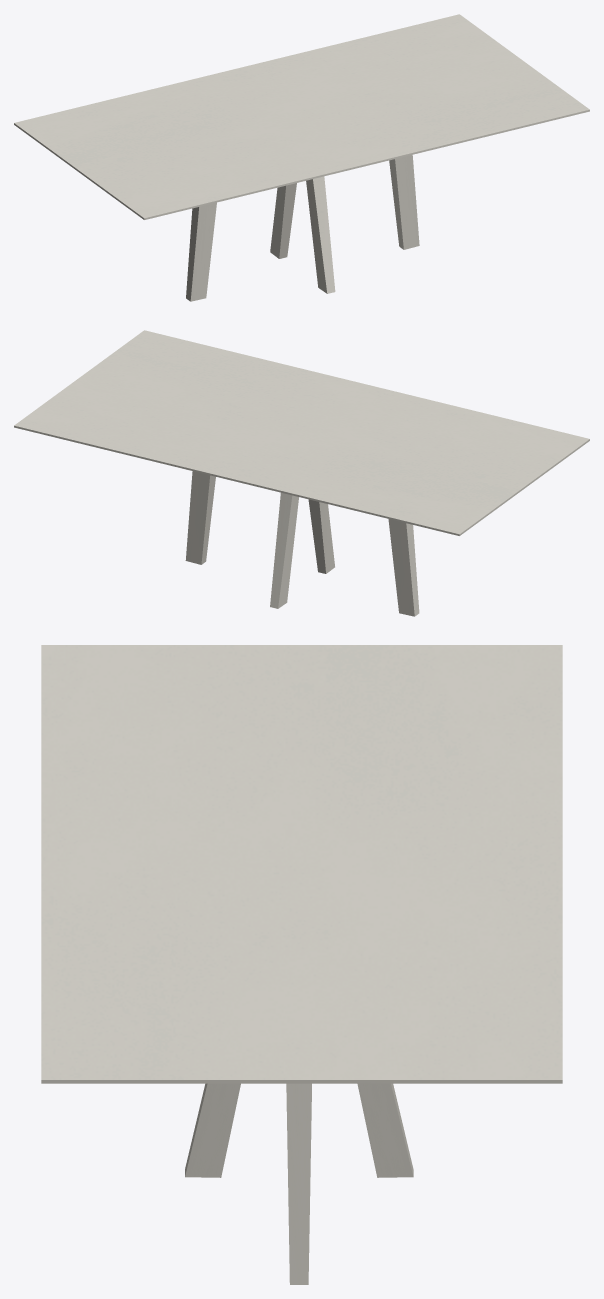
File: pale_recta_facet_searwalnut.glb
The picture shows the model from 3 angles, top to bottom: view 1: azimuth 30°, elevation 25°; view 2: azimuth 150°, elevation 25°; view 3: azimuth 270°, elevation 25°; orthographic projection. The views are drawn at different scales.
Visible parts, largest first — view 1: facet_recta, searwalnut; view 2: facet_recta, searwalnut; view 3: facet_recta, searwalnut.
Part boxes in pixels (box(x1,y1,x2,y2)): facet_recta: box(14, 14, 589, 219); searwalnut: box(186, 155, 419, 301); facet_recta: box(14, 330, 589, 535); searwalnut: box(185, 471, 419, 616); facet_recta: box(41, 645, 562, 1083); searwalnut: box(185, 1083, 413, 1284).
Size of the model in its own units: 7.5 by 2.5 by 3.8.
Materials: 1 (1 with a texture image).
